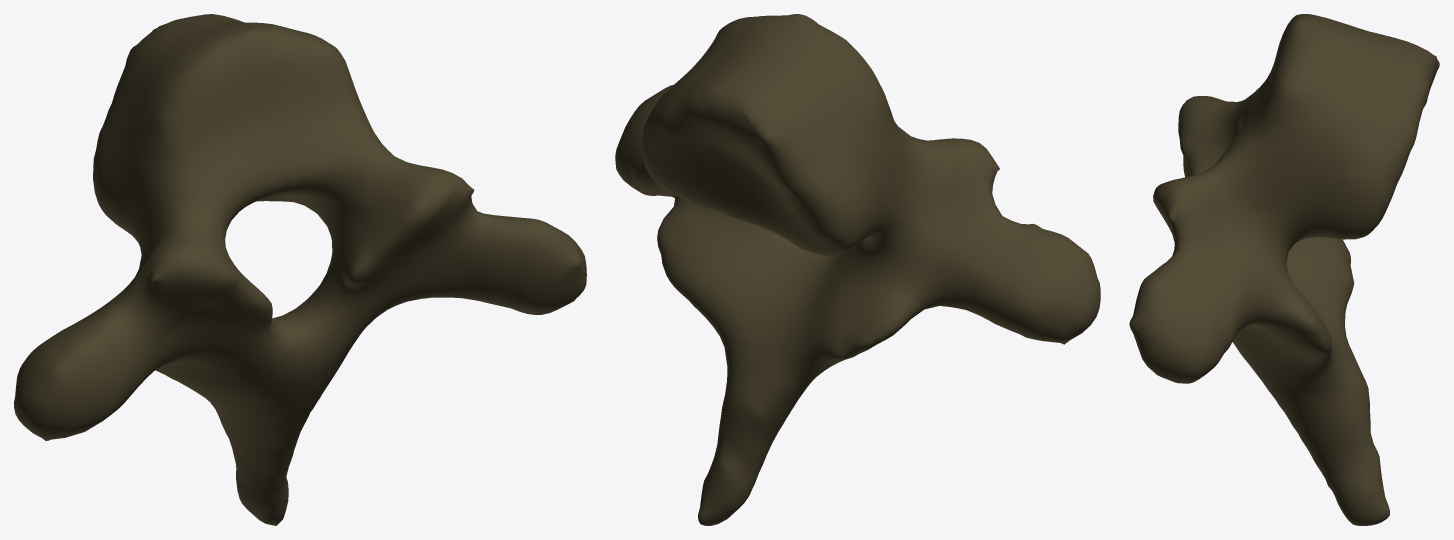
The model's file is segmentations_vertebrae_T2.obj.
3 views of the same model, side by side, from view 1: azimuth 30°, elevation 25°; view 2: azimuth 150°, elevation 25°; view 3: azimuth 270°, elevation 25° (orthographic). The views are drawn at different scales.
Parts seen in each view (by area): view 1: grp1; view 2: grp1; view 3: grp1.
Part boxes in pixels (box(x1,y1,x2,y2)): grp1: box(14, 14, 586, 525); grp1: box(615, 14, 1100, 525); grp1: box(1129, 14, 1439, 525).
Size of the model in its own units: 44.92 by 42.96 by 25.18.
